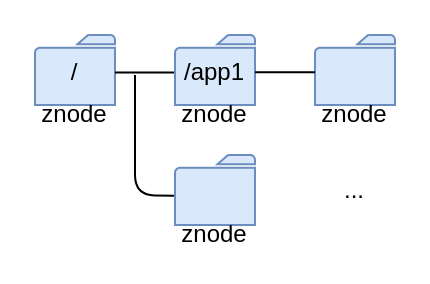
This 430x284 diagram has some shape labels left out. The shapes that lost their labels are listed below. From the top down, each one's centre as x and y in pixels, then its label:
the point at 354,69: /conf
the point at 214,189: /app2
